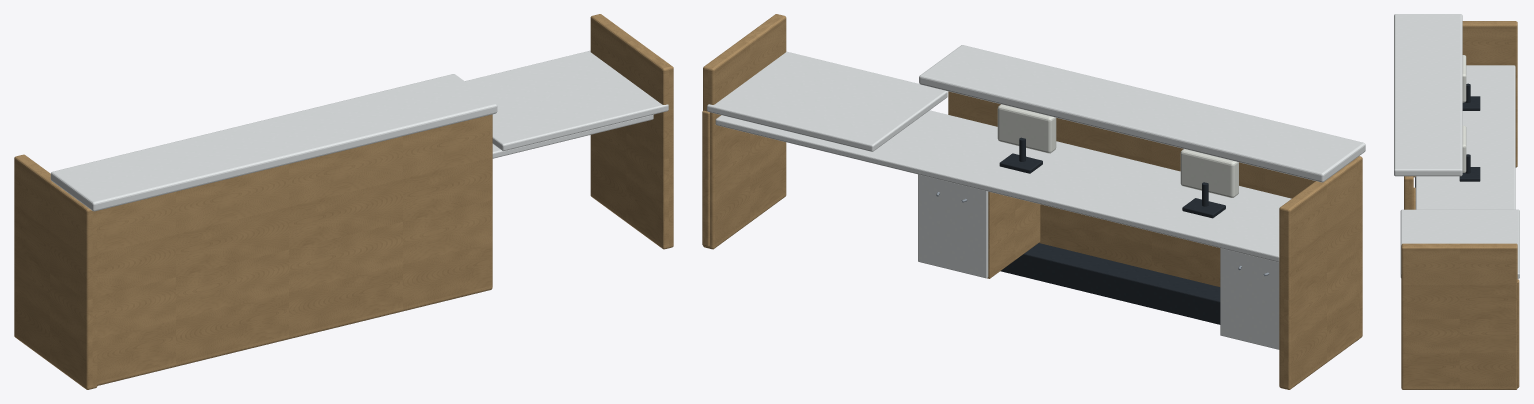
File: nurse-station-with-low-accessible-counter.glb
3 renders of one model, left to right at view 1: azimuth 30°, elevation 25°; view 2: azimuth 150°, elevation 25°; view 3: azimuth 270°, elevation 25°, orthographic. The views are drawn at different scales.
Visible parts, largest first — view 1: Desk front modesty panel, High counter surface, Desk side panel, Desk side panel.001, Accessible worktop, Staff work surface; view 2: Staff work surface, High counter surface, Desk side panel, Desk front modesty panel, Accessible worktop, Desk side panel.001, Grounded narrow recessed toe kick, Staff cabinet door.001, Staff cabinet door, Cabinet side.002, Monitor housing.001, Monitor housing (+1 smaller); view 3: Desk side panel.001, High counter surface, Staff work surface, Accessible worktop, Desk side panel, Desk front modesty panel, Low counter end, Monitor stand.001, Monitor housing, Monitor housing.001, Monitor stand.
Boxes of the visible parts, <box> form: Desk front modesty panel: <box>80,114,492,386</box>; High counter surface: <box>50,74,497,211</box>; Desk side panel: <box>14,154,97,389</box>; Desk side panel.001: <box>590,14,673,249</box>; Accessible worktop: <box>465,50,668,150</box>; Staff work surface: <box>492,114,653,158</box>; Staff work surface: <box>715,110,1291,262</box>; High counter surface: <box>919,45,1365,182</box>; Desk side panel: <box>1279,156,1362,389</box>; Desk front modesty panel: <box>948,91,1360,340</box>; Accessible worktop: <box>707,51,947,151</box>; Desk side panel.001: <box>703,14,786,249</box>; Grounded narrow recessed toe kick: <box>1000,243,1220,324</box>; Staff cabinet door.001: <box>918,174,988,278</box>; Staff cabinet door: <box>1220,248,1279,349</box>; Cabinet side.002: <box>988,191,1040,275</box>; Monitor housing.001: <box>997,104,1056,153</box>; Monitor housing: <box>1180,149,1238,197</box>; Desk side panel.001: <box>1401,243,1517,389</box>; High counter surface: <box>1394,14,1462,176</box>; Staff work surface: <box>1415,65,1515,209</box>; Accessible worktop: <box>1400,209,1519,278</box>; Desk side panel: <box>1462,21,1517,167</box>; Desk front modesty panel: <box>1404,176,1413,209</box>; Low counter end: <box>1517,279,1519,387</box>; Monitor stand.001: <box>1459,167,1480,181</box>; Monitor housing: <box>1462,55,1466,102</box>; Monitor housing.001: <box>1462,125,1466,172</box>; Monitor stand: <box>1462,96,1480,110</box>.
Size of the model in its own units: 3.6 by 1.12 by 0.845.
7 materials, 7 textured.
